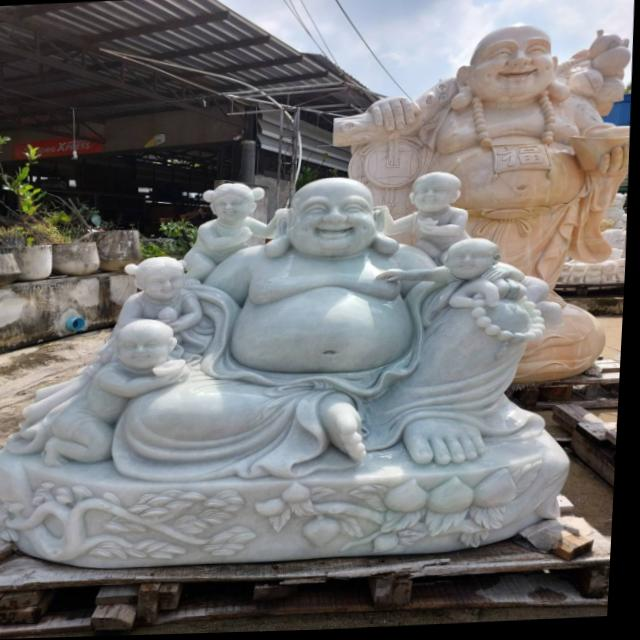Smiling Buddha: (164, 169, 473, 483), (439, 15, 584, 176)
